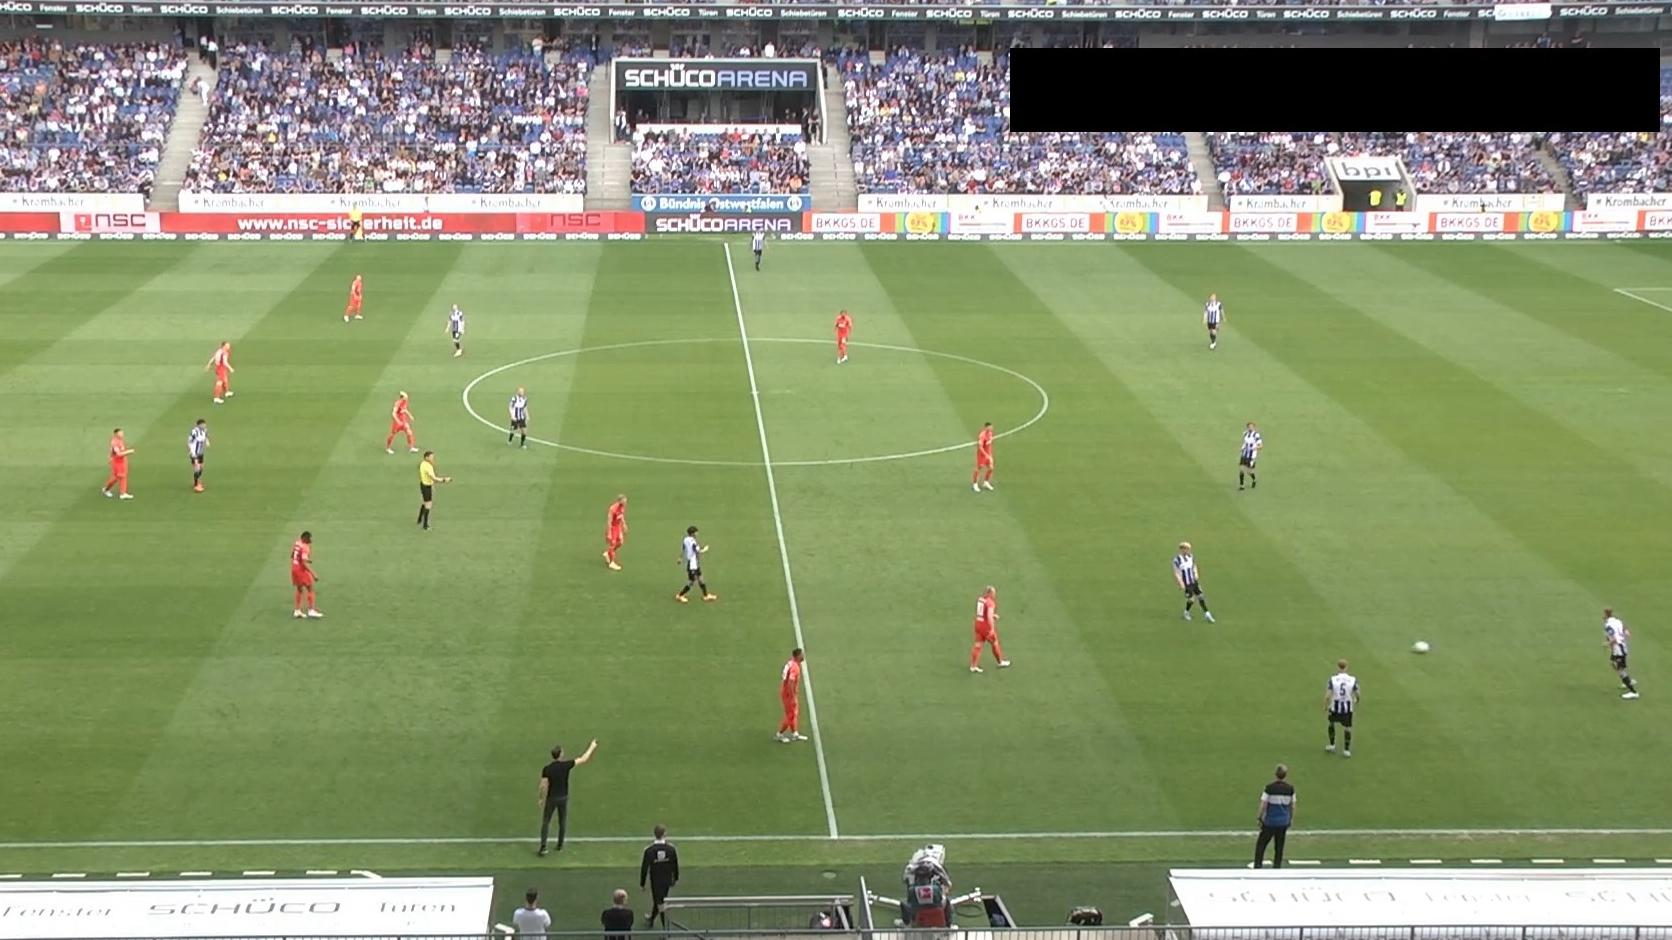ball: (1409, 638, 1431, 654)
